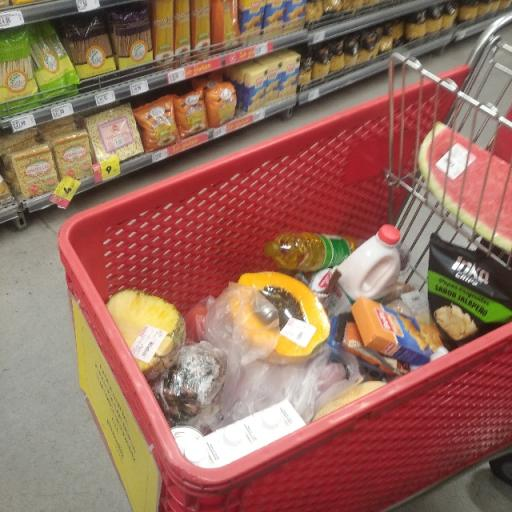shopping_cart: (58, 8, 512, 512)
